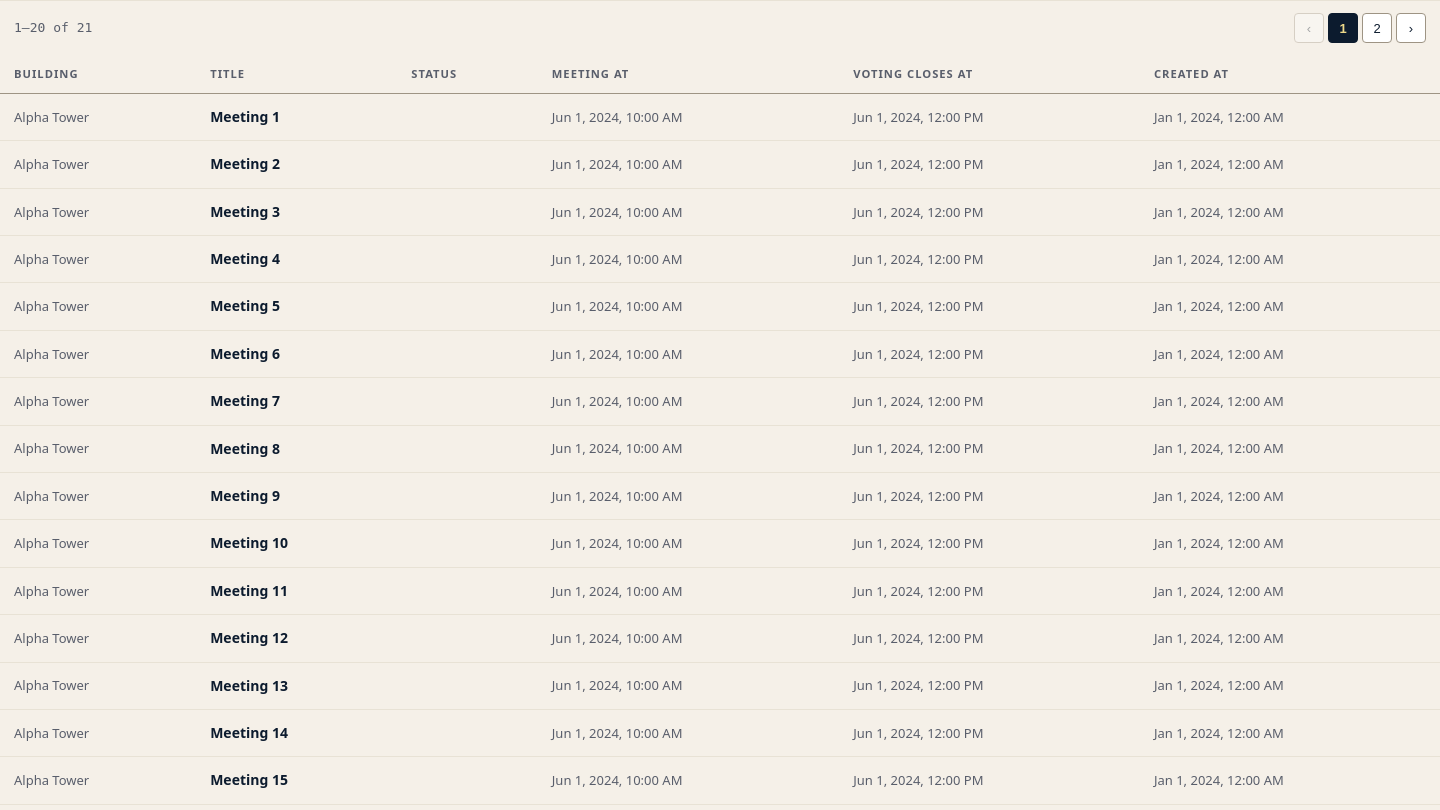
GeneralMeetingTable › navigating to page 2 shows row 21
The width and height of the screenshot is (1440, 810).
Note: Use the first (top) Next page button
Step 1. Click the button named "Next page" → (1411,28), box [1396, 13, 1426, 43]
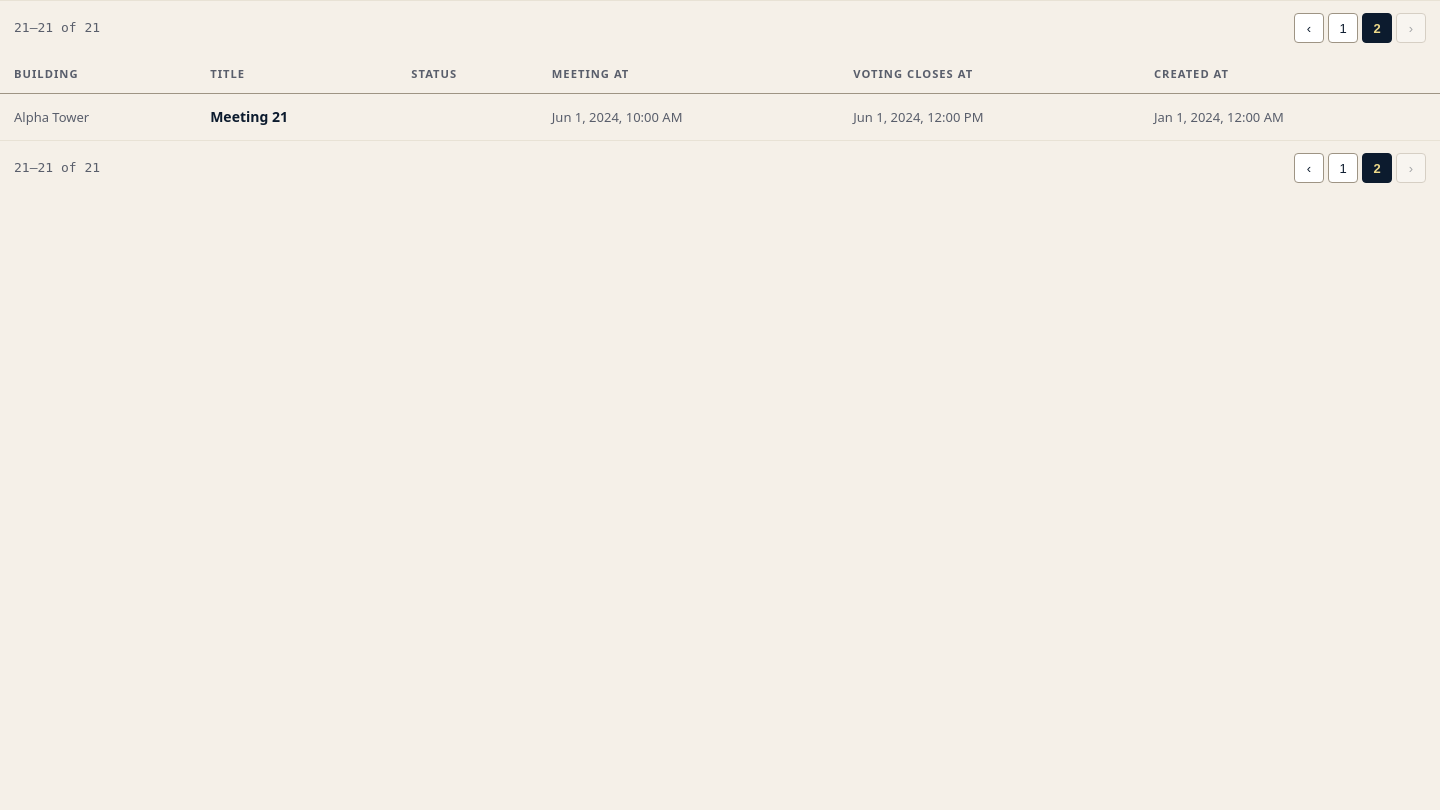
Check: the text "Meeting 21" is shown, box [196, 93, 397, 140]
Check: the text "Meeting 1" is gone
